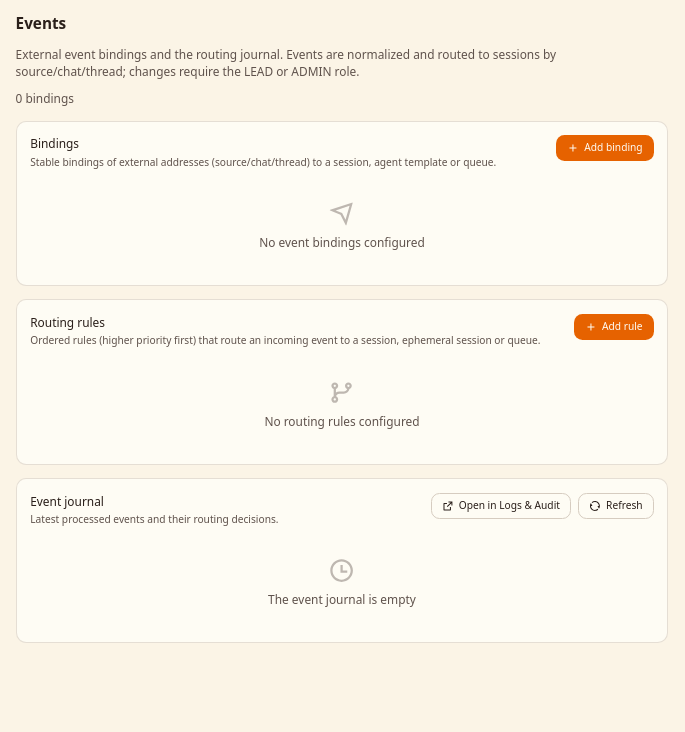
Test: EventsAdminSettings — биндинги и журнал (ADR-089) › поля формы показывают иконку-подсказку (tooltip)
Click the button with test id "events-binding-add" at {"x": 605, "y": 148}, box [556,135,654,161]
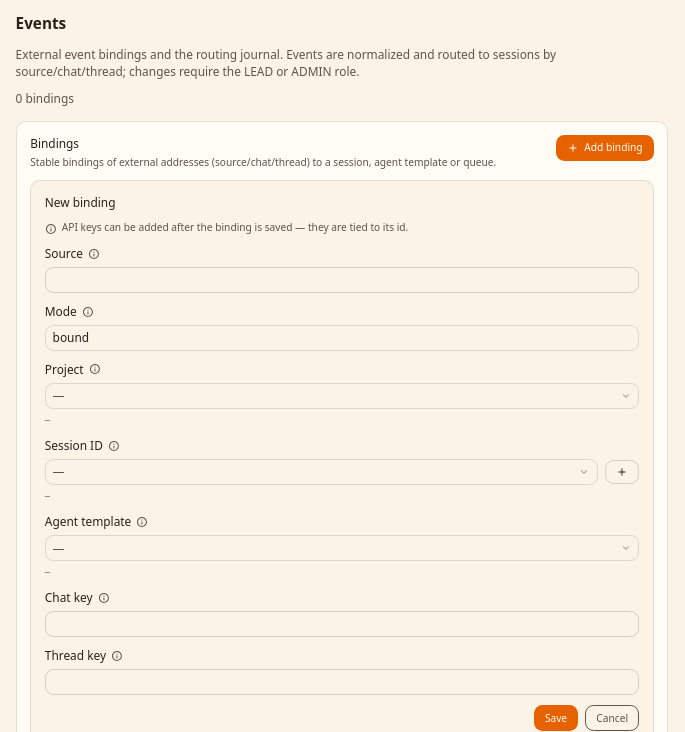
Check: the 1st picture with test id "settings-field-tooltip" is shown, box [88,248,100,260]
